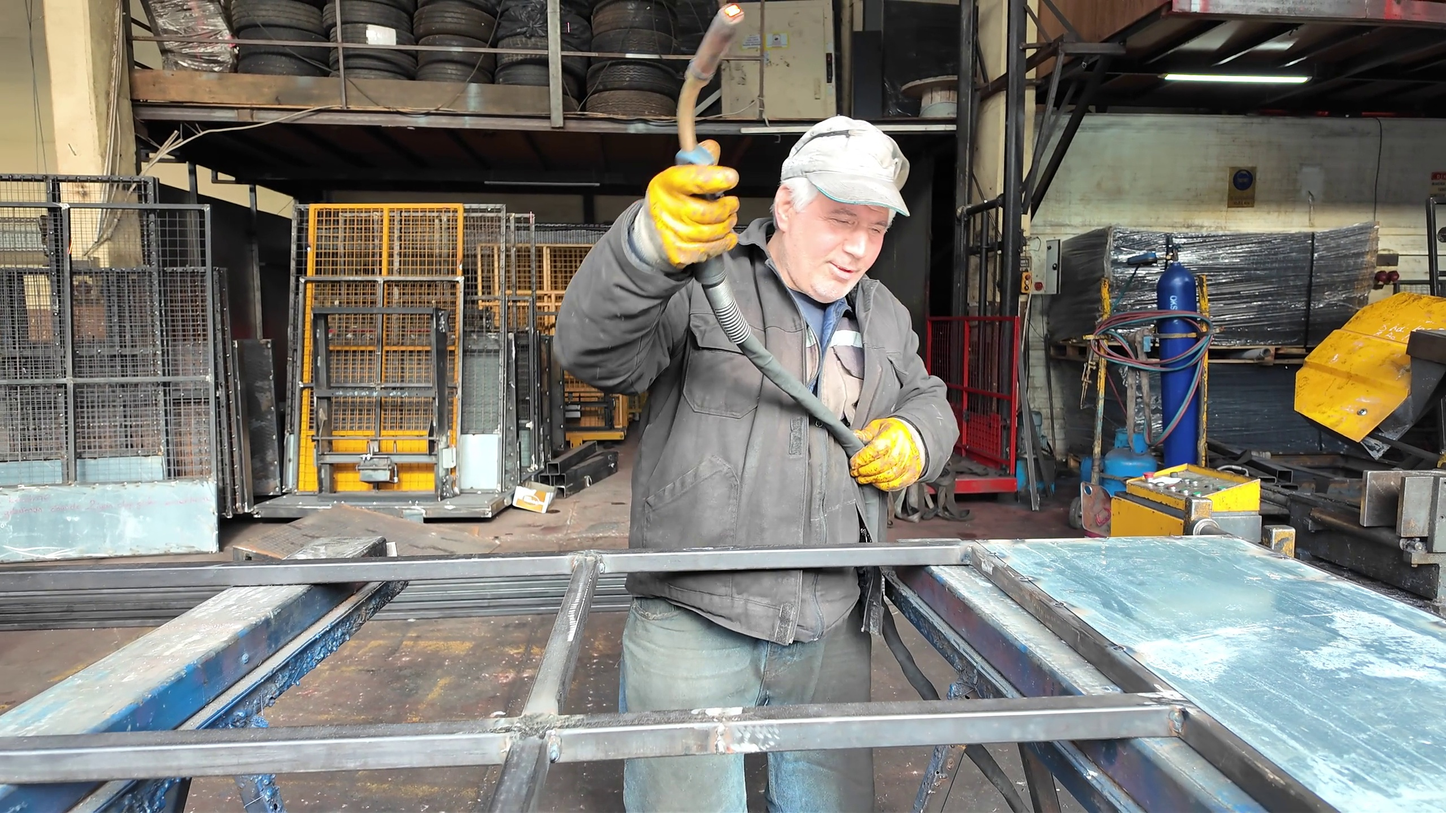person: (548, 116, 962, 813)
